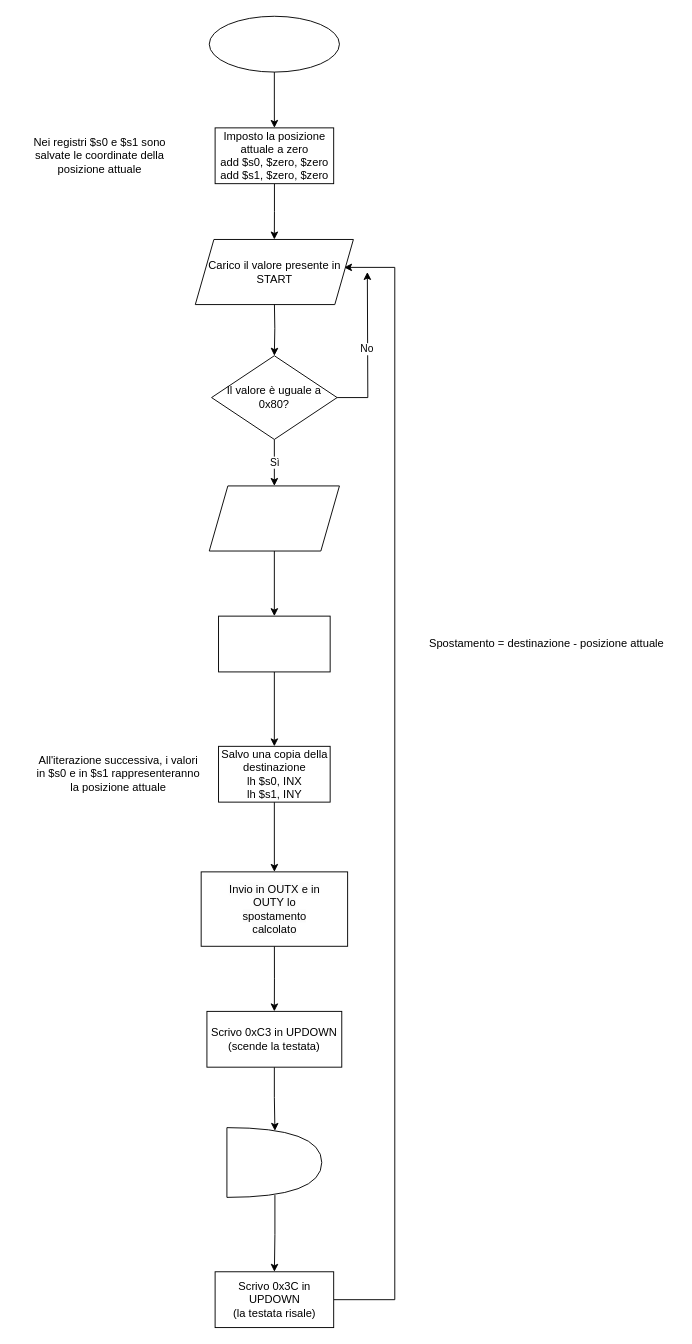
Image size: 692x1344. Some labels were removed from this diagram. Each missing label, with the centre of its shape:
"Attesa di 400 millisecondi" belongs at [274,1162].
"Avvio" belongs at [273,43].
"Calcolo lo spostamento" belongs at [274,643].
"Carico la posizione da INX e da INY" belongs at [273,518].
